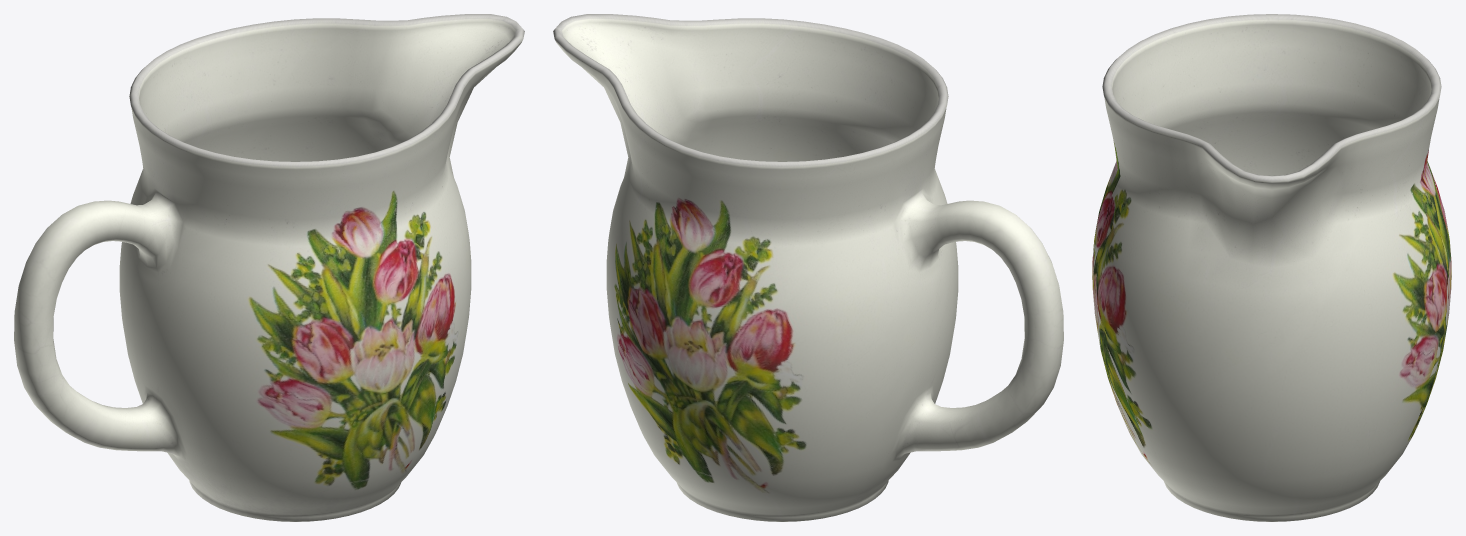
File: jug_01_1k.glb
3 renders of one model, left to right at view 1: azimuth 30°, elevation 25°; view 2: azimuth 150°, elevation 25°; view 3: azimuth 270°, elevation 25°, orthographic. The views are drawn at different scales.
Visible parts, largest first — view 1: jug_01; view 2: jug_01; view 3: jug_01.
Boxes of the visible parts, box(x1,y1,x2,y2) form: jug_01: box(14, 14, 524, 521); jug_01: box(553, 14, 1063, 521); jug_01: box(1092, 14, 1451, 521).
Size of the model in its own units: 0.2753 by 0.2113 by 0.1675.
1 material, 1 textured.
